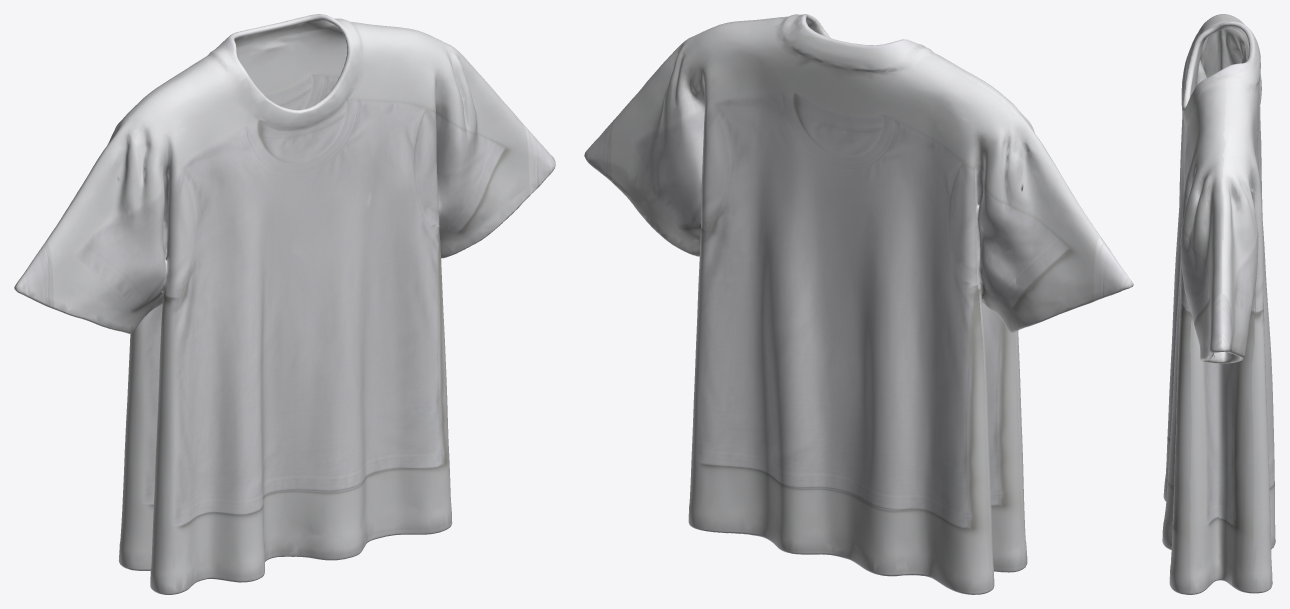
3 views of the same model, side by side, from view 1: azimuth 30°, elevation 25°; view 2: azimuth 150°, elevation 25°; view 3: azimuth 270°, elevation 25° (orthographic). The views are drawn at different scales.
Visible parts, largest first — view 1: garment; view 2: garment; view 3: garment.
Part boxes in pixels (x1,y1,x2,y2): garment: (14,14,555,594); garment: (584,14,1133,594); garment: (1162,14,1275,594).
Size of the model in its own units: 1.99 by 1.81 by 0.3833.
1 material, 1 textured.
